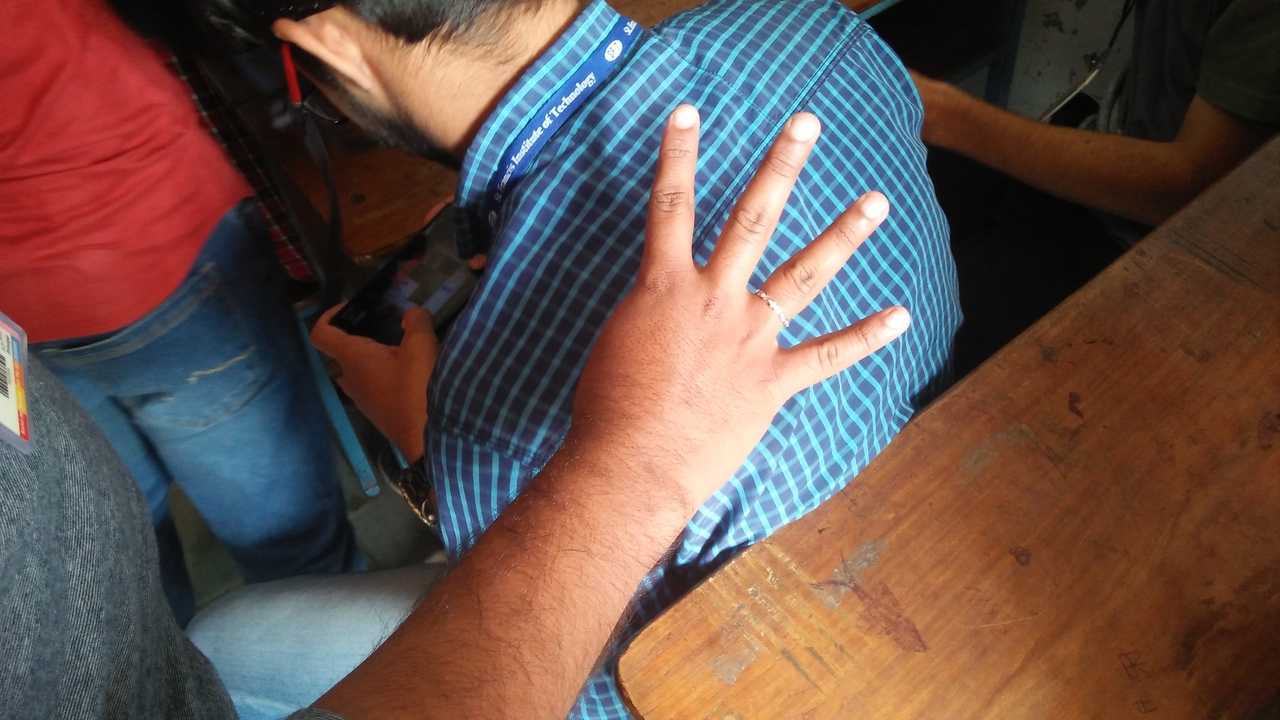fingertip: (824, 174, 898, 234), (766, 102, 824, 162), (868, 289, 918, 349), (656, 90, 708, 140)
